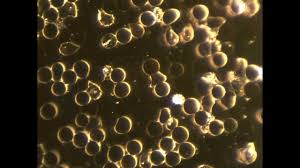Malaria: (112, 115, 134, 136), (245, 63, 262, 83), (242, 142, 258, 163), (101, 33, 119, 50), (58, 124, 74, 143), (112, 81, 130, 97), (51, 61, 64, 83), (184, 96, 199, 114), (140, 11, 156, 27), (169, 63, 185, 78), (192, 6, 209, 20), (210, 52, 227, 66), (74, 92, 90, 106), (39, 66, 52, 83), (110, 69, 125, 82), (76, 113, 90, 126), (118, 30, 131, 44), (159, 107, 171, 122)
